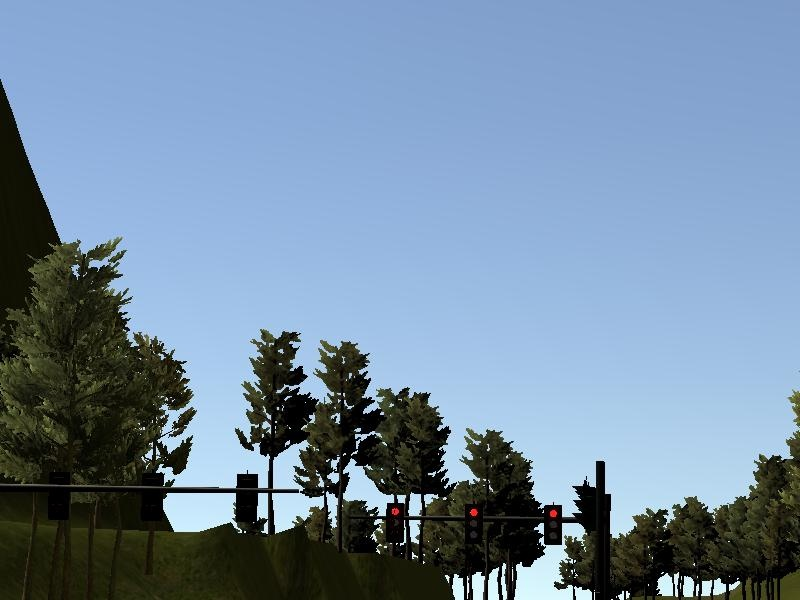traffic_light_red: (369, 501, 578, 550)
